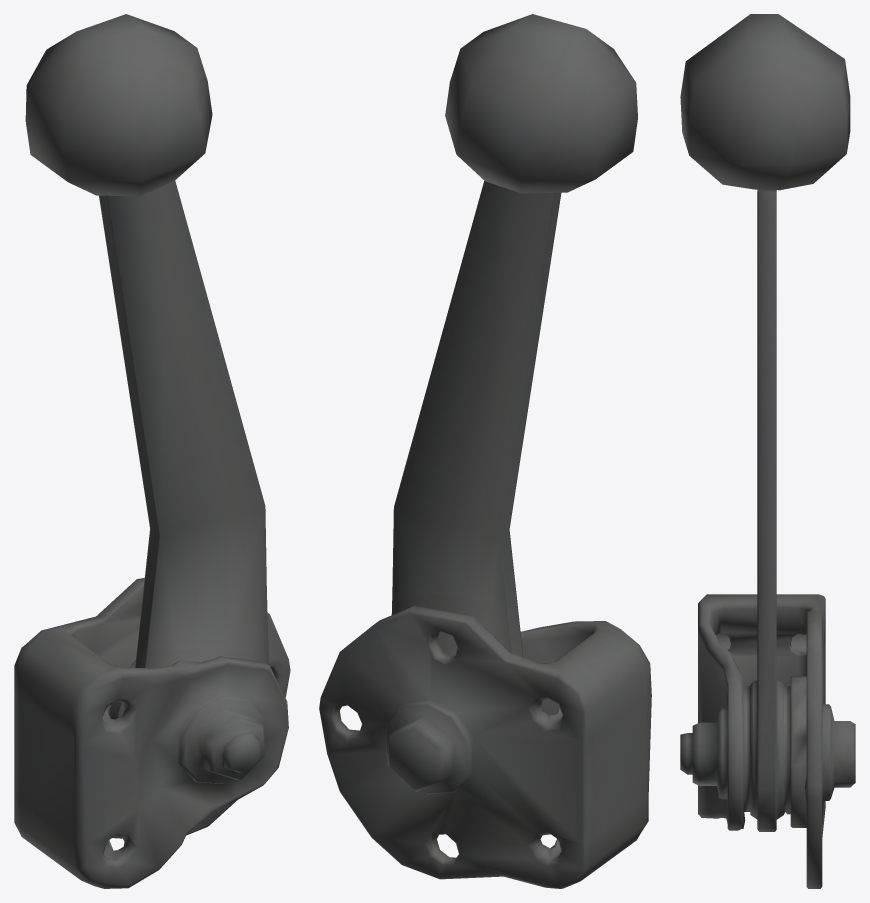
The model's file is mixture_remesh.glb.
The picture shows the model from 3 angles, left to right: view 1: azimuth 30°, elevation 25°; view 2: azimuth 150°, elevation 25°; view 3: azimuth 270°, elevation 25°; orthographic projection. The views are drawn at different scales.
Visible parts, largest first — view 1: tripo_node_0a3e19f2-8cfe-498d-8283-47abc; view 2: tripo_node_0a3e19f2-8cfe-498d-8283-47abc; view 3: tripo_node_0a3e19f2-8cfe-498d-8283-47abc.
Part boxes in pixels (x1,y1,x2,y2): tripo_node_0a3e19f2-8cfe-498d-8283-47abc: (14, 14, 290, 888); tripo_node_0a3e19f2-8cfe-498d-8283-47abc: (319, 14, 651, 888); tripo_node_0a3e19f2-8cfe-498d-8283-47abc: (680, 14, 855, 888).
Size of the model in its own units: 0.3327 by 1 by 0.1957.
Materials: 1 (1 with a texture image).
